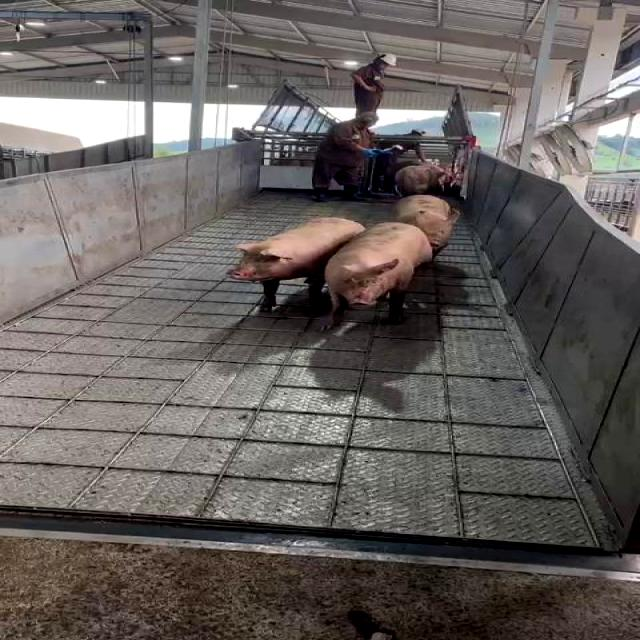pig: (229, 218, 364, 311), (325, 222, 433, 328), (394, 195, 461, 256)
